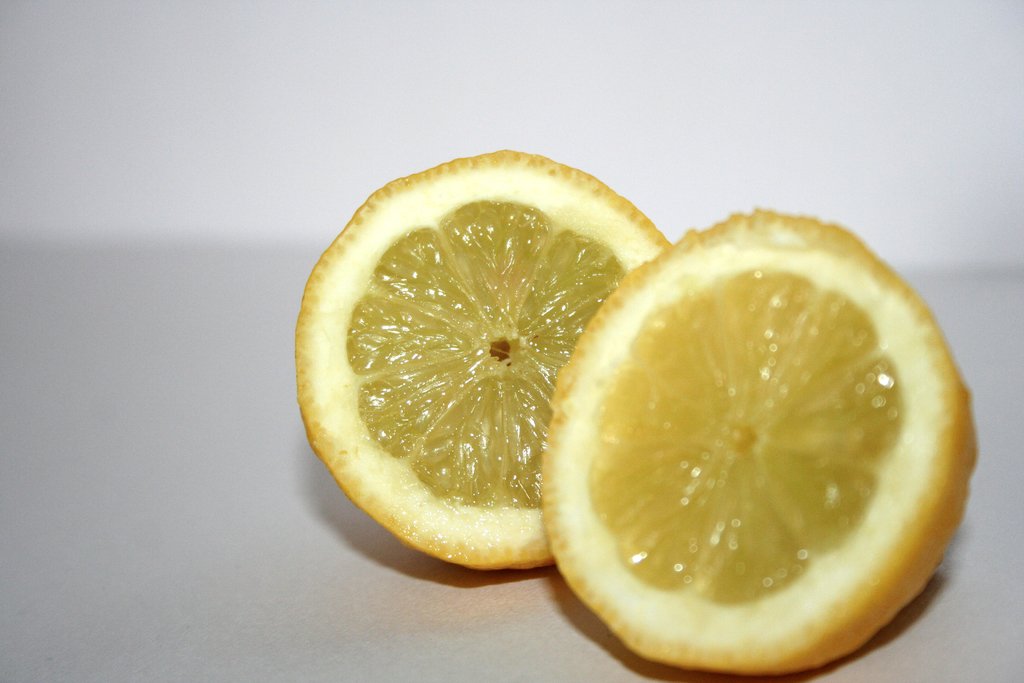Ripe: (550, 222, 979, 674), (277, 160, 660, 600)
